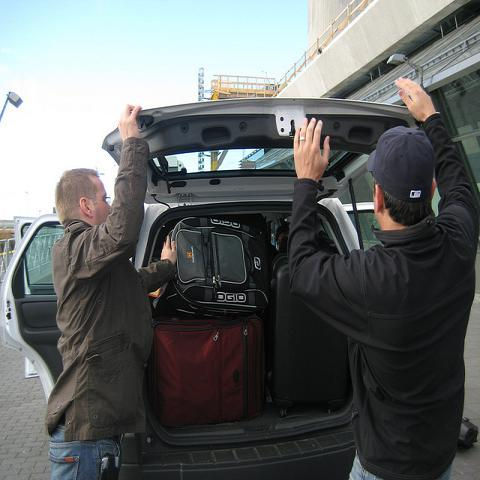car: (115, 105, 412, 474)
